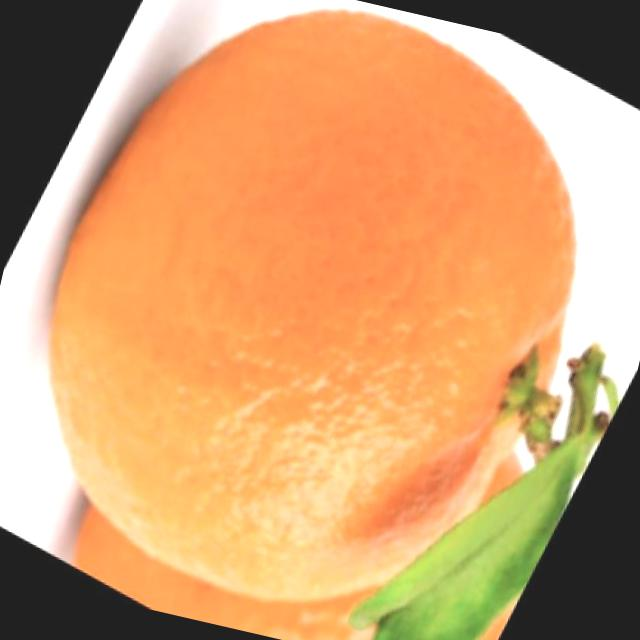Orange: (0, 0, 628, 640), (50, 350, 558, 640)
